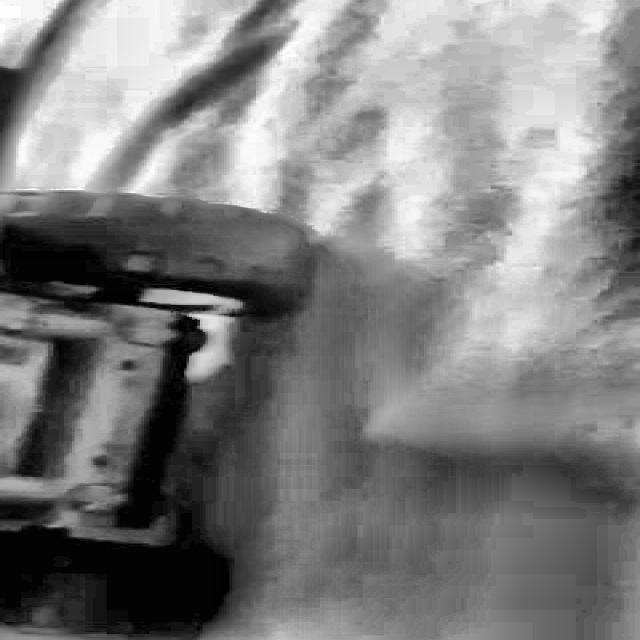dump_truck: (0, 44, 264, 640)
